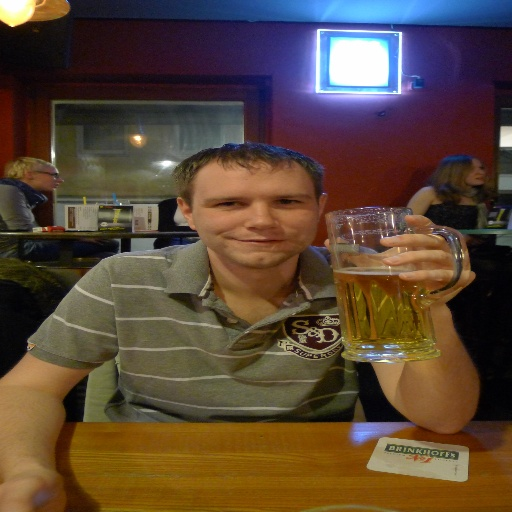hand: (382, 215, 473, 302), (0, 472, 67, 511), (78, 237, 110, 245), (460, 233, 474, 242)
